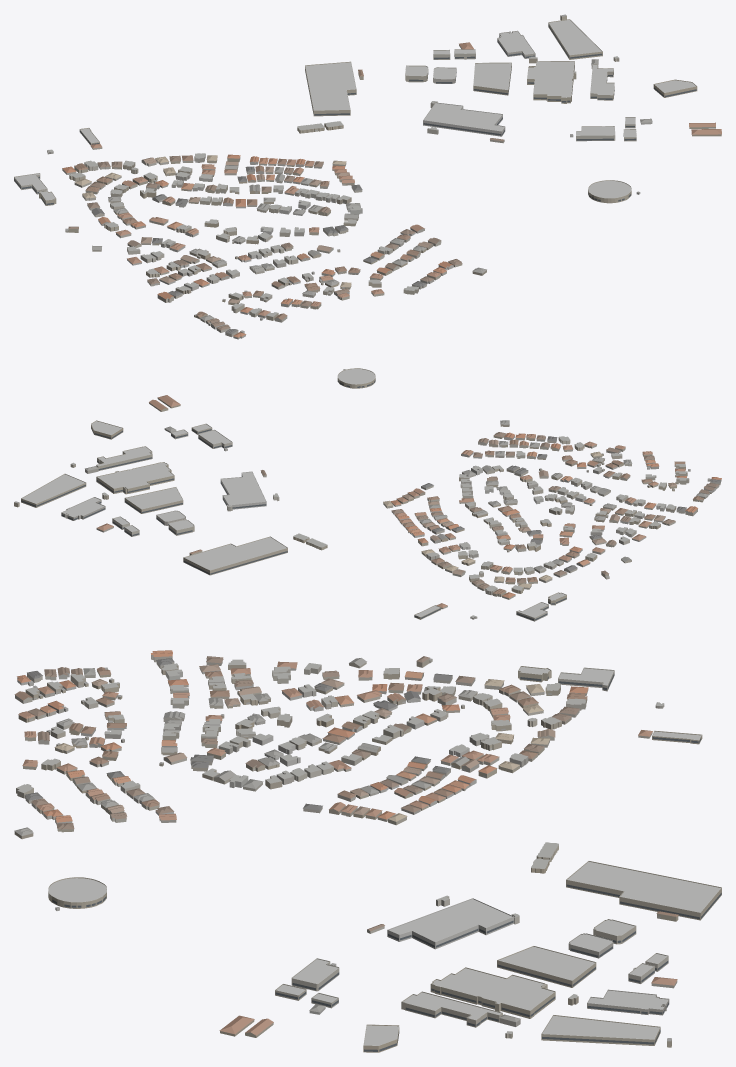
File: buildings_r4_c5.glb
3 renders of one model, top to bottom at view 1: azimuth 30°, elevation 25°; view 2: azimuth 150°, elevation 25°; view 3: azimuth 270°, elevation 25°, orthographic. The views are drawn at different scales.
Parts seen in each view (by area): view 1: buildings_r4_c5; view 2: buildings_r4_c5; view 3: buildings_r4_c5.
Boxes of the visible parts, x1,y1,x2,y2 form: buildings_r4_c5: (14,14,721,339); buildings_r4_c5: (14,368,721,621); buildings_r4_c5: (14,650,721,1052).
Bounding box in the file's own units: 1152 × 68.85 × 847.
